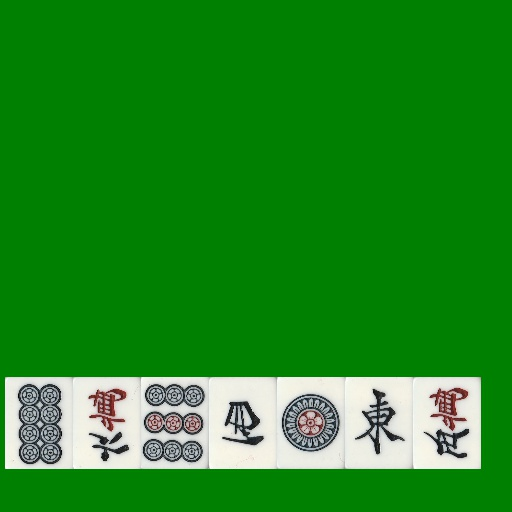1p: (277, 377, 345, 469)
5m: (413, 377, 481, 469)
6m: (73, 377, 141, 469)
8p: (5, 377, 73, 469)
9p: (141, 377, 209, 469)
east: (345, 377, 413, 469)
west: (209, 377, 277, 469)
